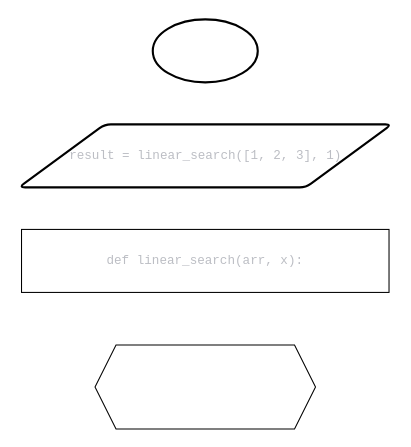
The diagram is 411 pixels wide and 447 high, and some of its shapes have lost their labels. The centre of each missing label's shape, as x and y in pixels:
"for i in range(len(arr))" belongs at point 205,386.
"Start" belongs at point 204,50.
